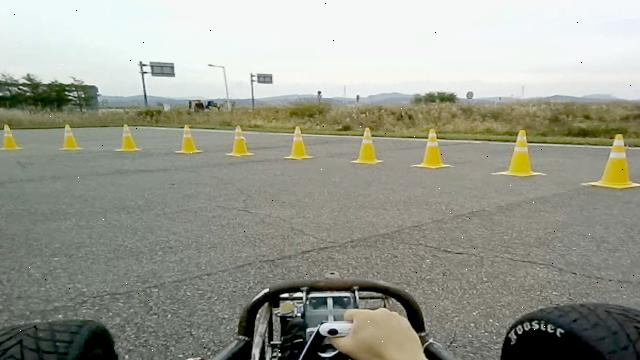blue cone: (498, 301, 640, 360)
yellow cone: (585, 134, 640, 190), (492, 129, 546, 177), (410, 128, 453, 169), (349, 127, 384, 164), (283, 125, 315, 160), (225, 124, 255, 157), (173, 123, 203, 154), (114, 123, 143, 152), (58, 124, 84, 150), (0, 124, 24, 150)
